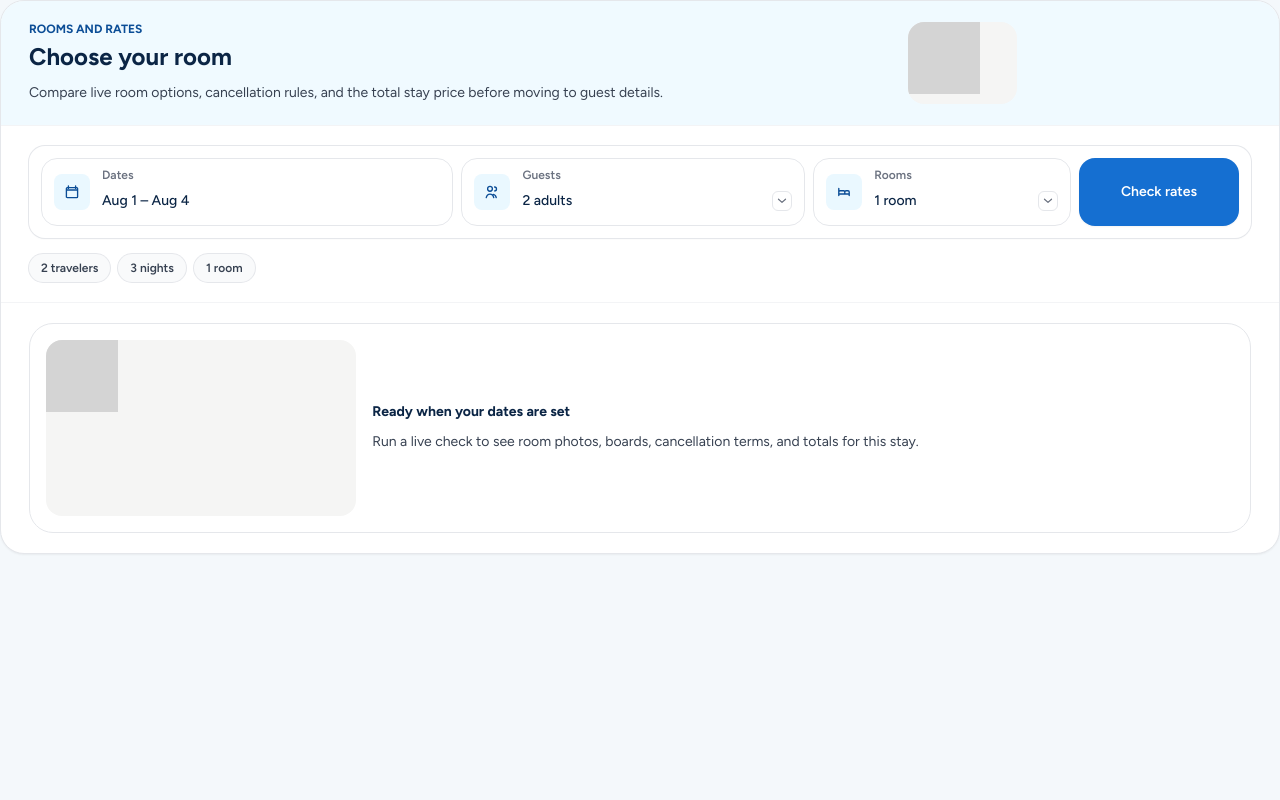
AvailabilityWidget › does not use property gallery photos as room option images
The width and height of the screenshot is (1280, 800).
Click the button "Check rates".
click(1159, 192)  # box x1=1079 y1=158 x2=1239 y2=226
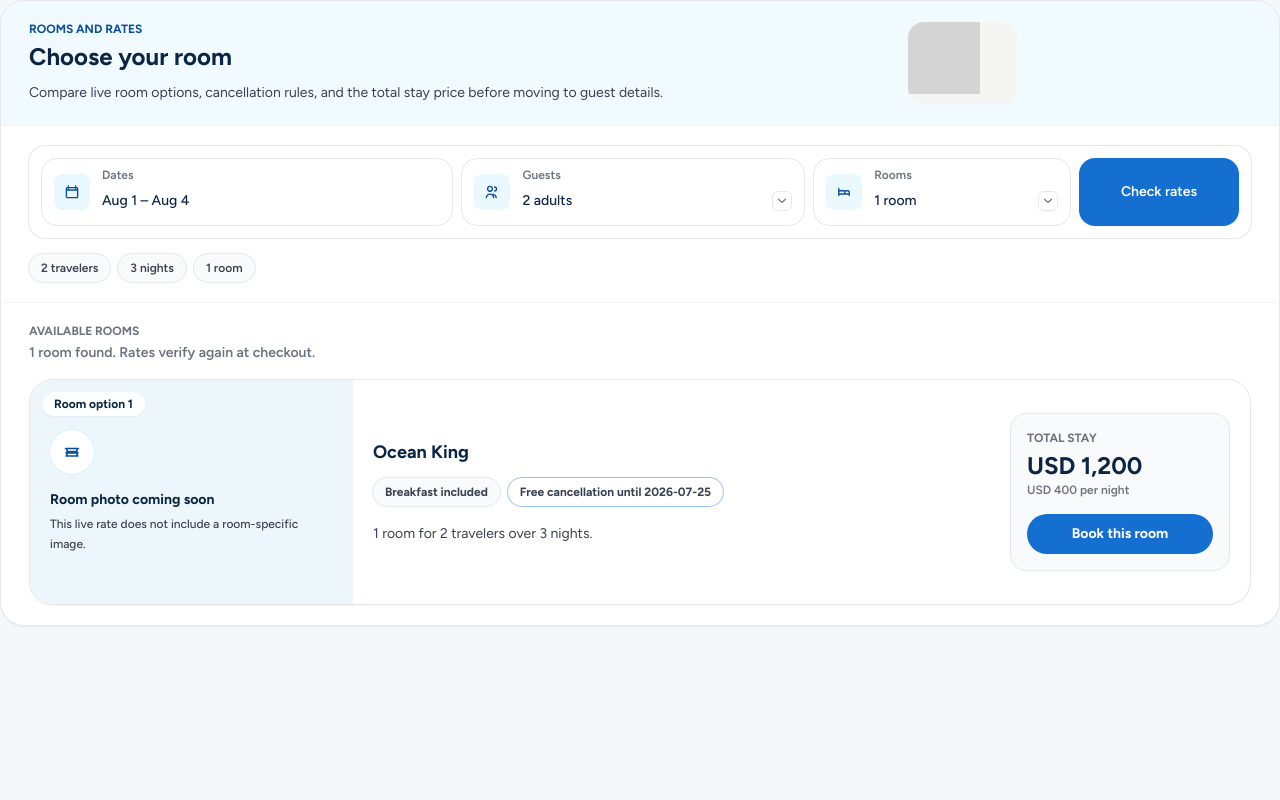
Expected: the text "Room photo coming soon" is shown, x1=50 y1=491 x2=214 y2=508
Expected: the text "This live rate does not include a room-specific image." is shown, x1=50 y1=514 x2=333 y2=554
